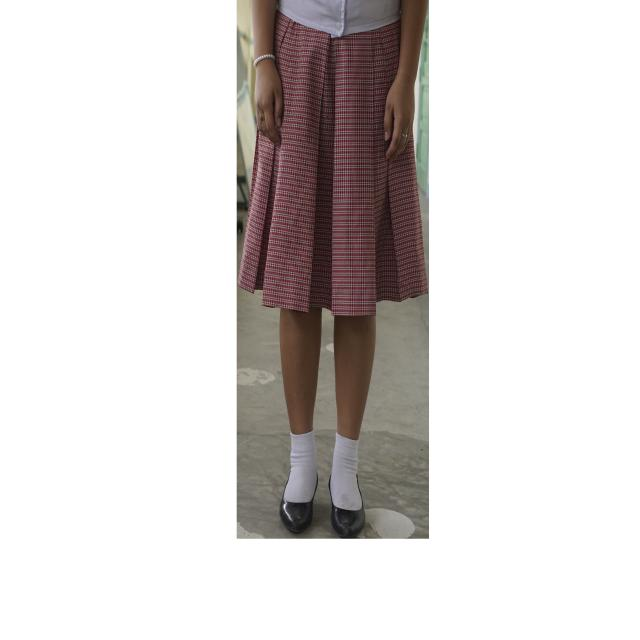shoes: (331, 494, 366, 538), (279, 494, 313, 532)
skirt: (238, 13, 428, 316)
